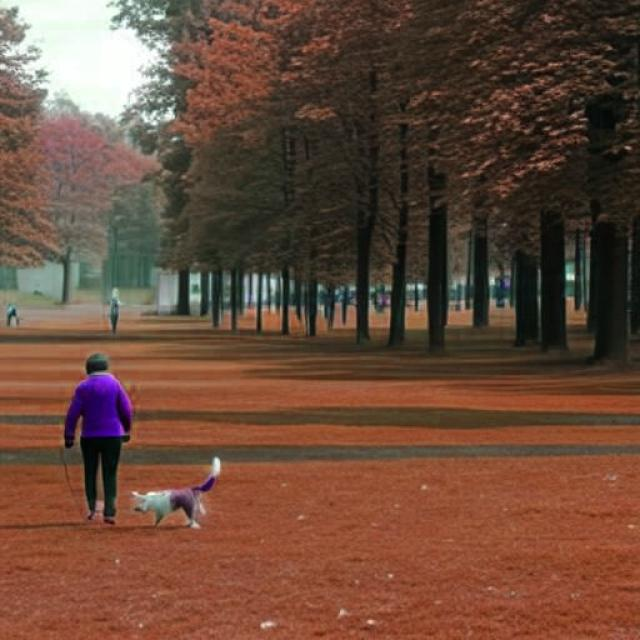Unleashed_Dog: (80, 432, 220, 529)
